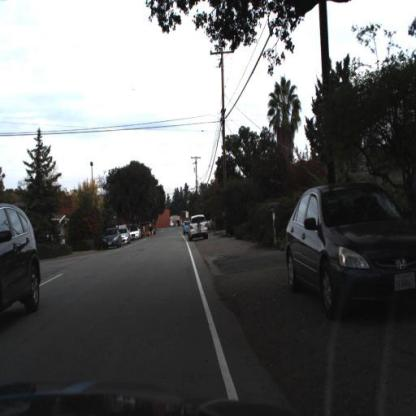car: (280, 174, 416, 323), (2, 203, 45, 325), (189, 213, 207, 241), (104, 225, 121, 250), (130, 227, 142, 243), (120, 230, 131, 247)
